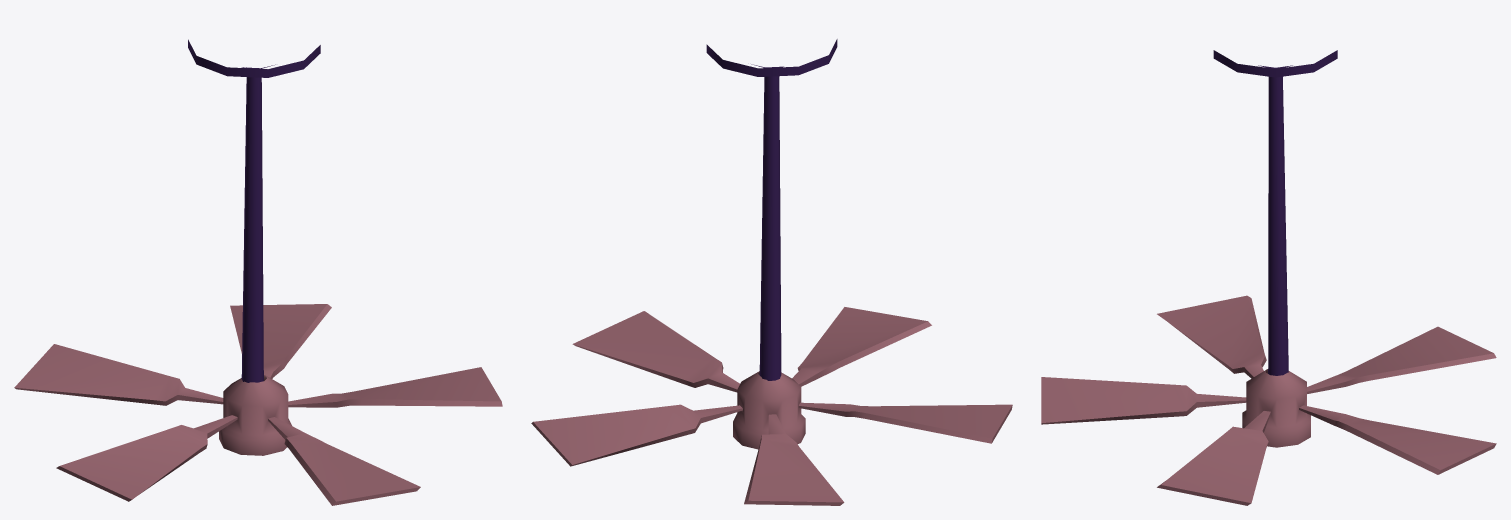
Rendered from Fan.fbx.
3 views of the same model, side by side, from view 1: azimuth 30°, elevation 25°; view 2: azimuth 150°, elevation 25°; view 3: azimuth 270°, elevation 25° (orthographic). The views are drawn at different scales.
Visible parts, largest first — view 1: DOME_014_Krusty_32; view 2: DOME_014_Krusty_32; view 3: DOME_014_Krusty_32.
Boxes of the visible parts, <box> form: DOME_014_Krusty_32: <box>14,39,502,505</box>; DOME_014_Krusty_32: <box>531,39,1012,505</box>; DOME_014_Krusty_32: <box>1041,50,1496,505</box>.
Bounding box in the file's own units: 232 × 214 × 221.
Materials: 2 (2 with a texture image).
